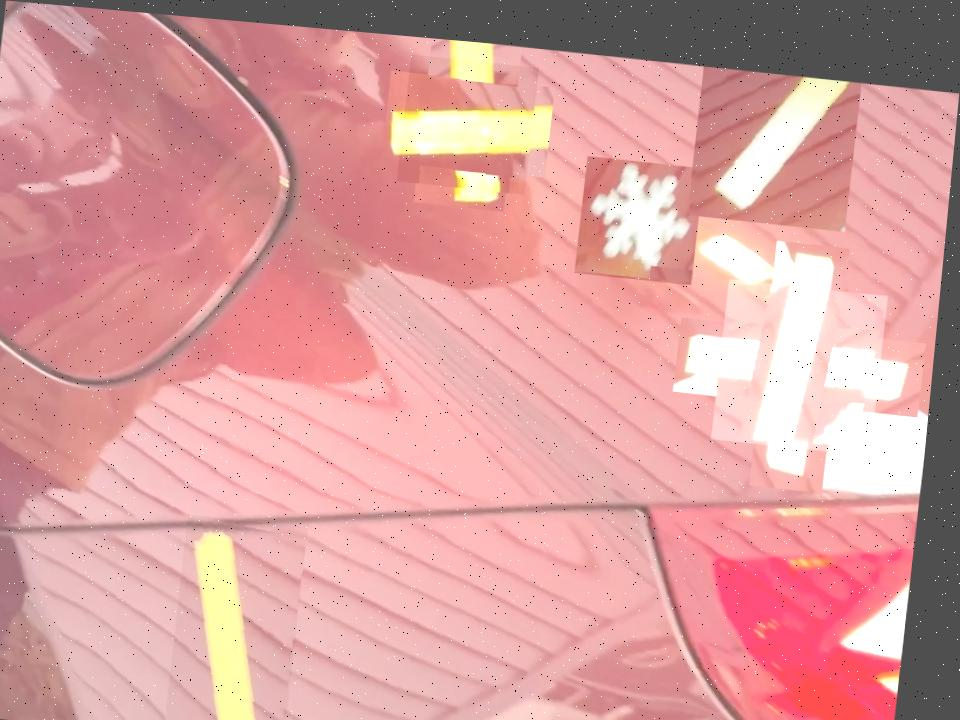dent: (579, 145, 707, 272)
scratch: (718, 265, 892, 439), (177, 510, 318, 720), (690, 53, 862, 216), (400, 47, 540, 185)
